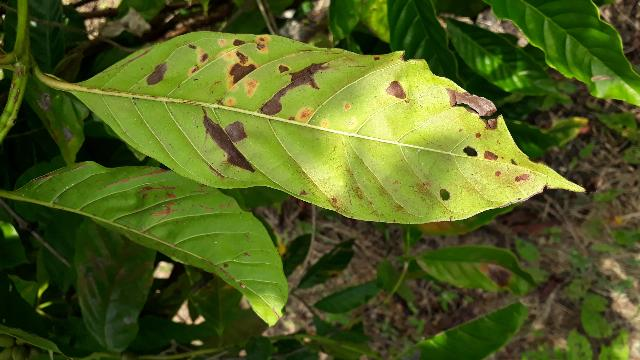rust_level_2: (72, 27, 596, 223)
